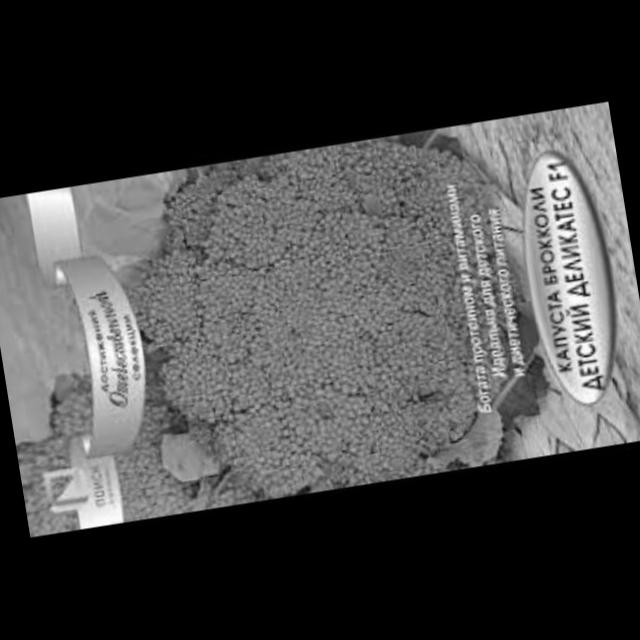broccoli: (92, 123, 537, 521)
